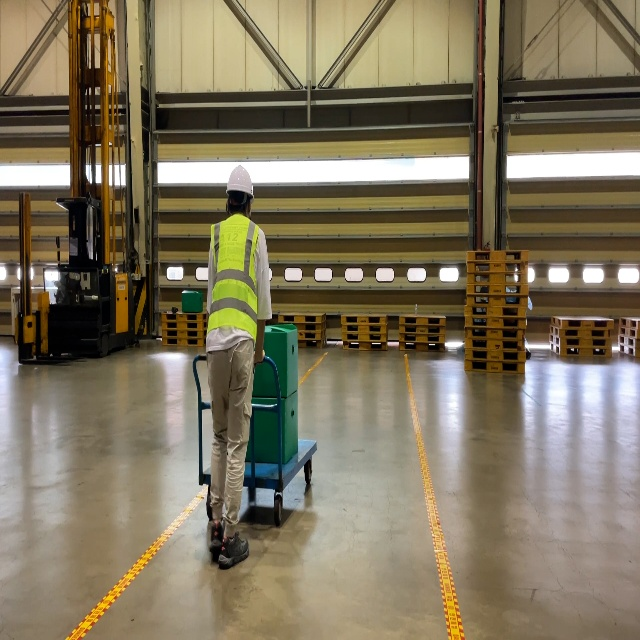Box: (246, 391, 299, 462), (254, 323, 300, 398)
Worker: (207, 167, 273, 575)
